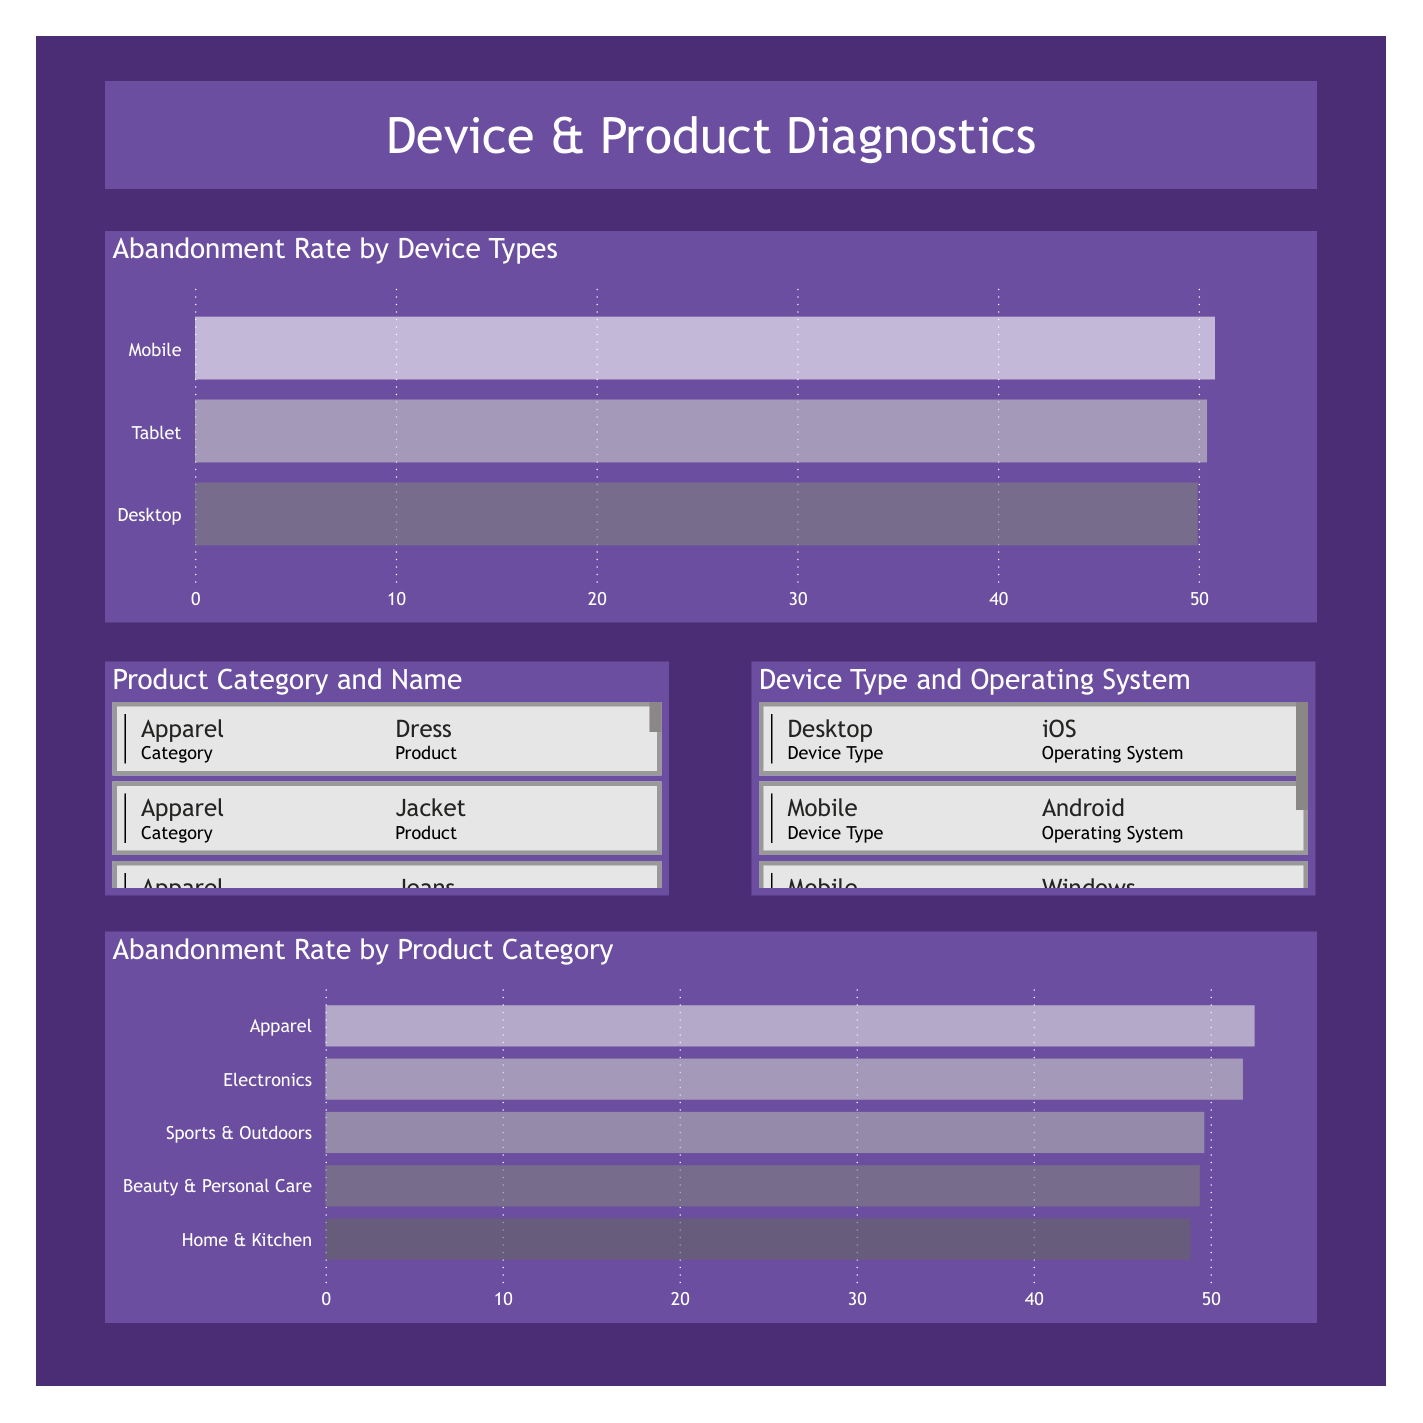

What the dashboard file says about the page in this screenshot:
{"tool":"powerbi","page":{"name":"Prod & Device Breakdown","canvas":[900,900],"ordinal":1},"visuals":[{"type":"shape","box":[46,29.9,808,72.4],"z":0},{"type":"barChart","title":"Abandonment Rate by Device Types ","fields":{"Y":["customer_table.Abandonment Rate %"],"Category":["device_table.device_type","device_table.os"]},"box":[45.6,130,808.9,261.1],"z":1000},{"type":"barChart","title":"Abandonment Rate by Product Category","fields":{"Y":["customer_table.Abandonment Rate %"],"Category":["product_table.category","product_table.product_name"]},"box":[45.6,596.7,808.9,261.1],"z":2000},{"type":"multiRowCard","title":"Product Category and Name","fields":{"Values":["product_table.category","product_table.product_name"]},"box":[45.6,416.7,376.7,156.7],"z":3000},{"type":"multiRowCard","title":"Device Type and Operating System","fields":{"Values":["device_table.device_type","device_table.os"]},"box":[476.7,416.7,376.7,156.7],"z":4000}]}

Visuals, with their boxes in screenshot pixels (x1, y1, x2, y2), scaled from the page's 900x900 canvas onto the 1423x1423 screenshot:
shape: <bbox>73, 47, 1350, 162</bbox>
"Abandonment Rate by Device Types " barChart: <bbox>72, 206, 1351, 618</bbox>
"Abandonment Rate by Product Category" barChart: <bbox>72, 943, 1351, 1356</bbox>
"Product Category and Name" multiRowCard: <bbox>72, 659, 668, 907</bbox>
"Device Type and Operating System" multiRowCard: <bbox>754, 659, 1349, 907</bbox>
